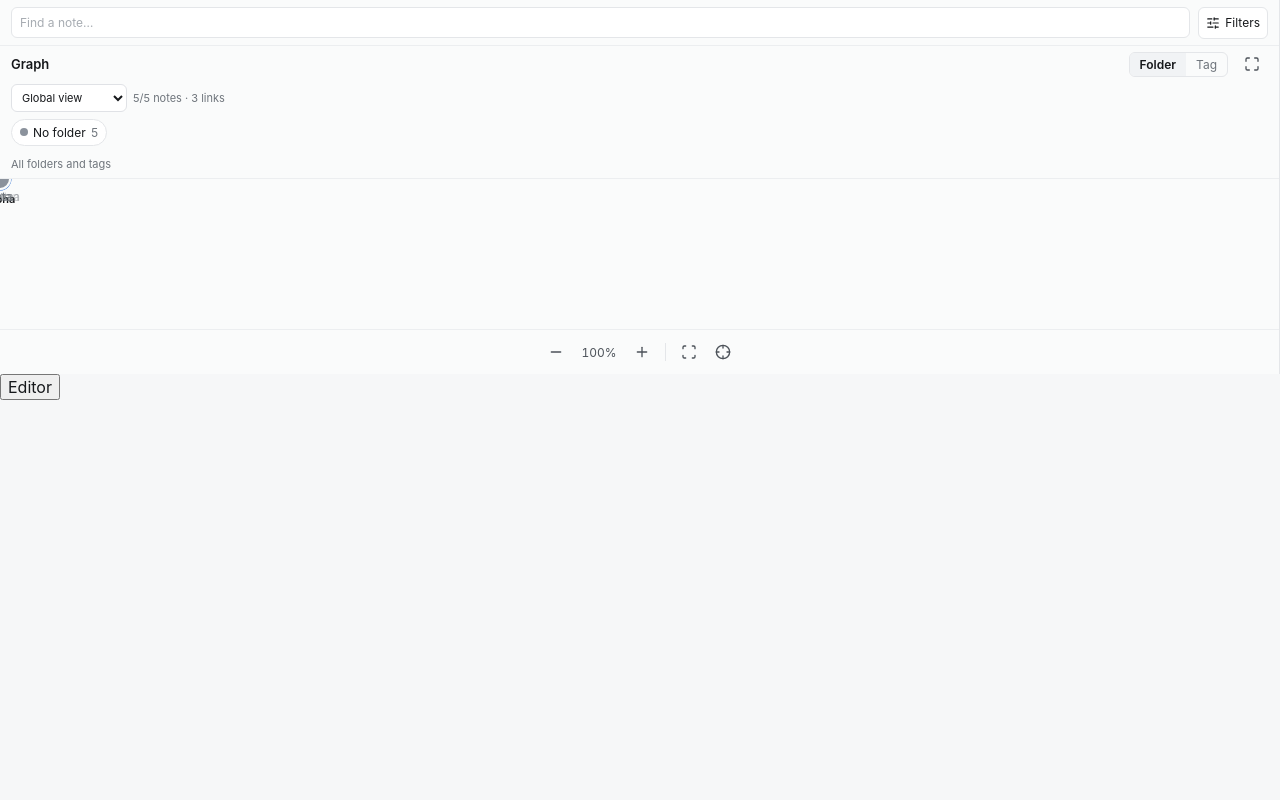
Test: Overlay graph filters › keeps camera and simulation positions when toggling filters and opening panels
Later steps or results of the test are not shown.
Step 1. Click the button named "Zoom in" → [642, 352], box [626, 336, 658, 368]
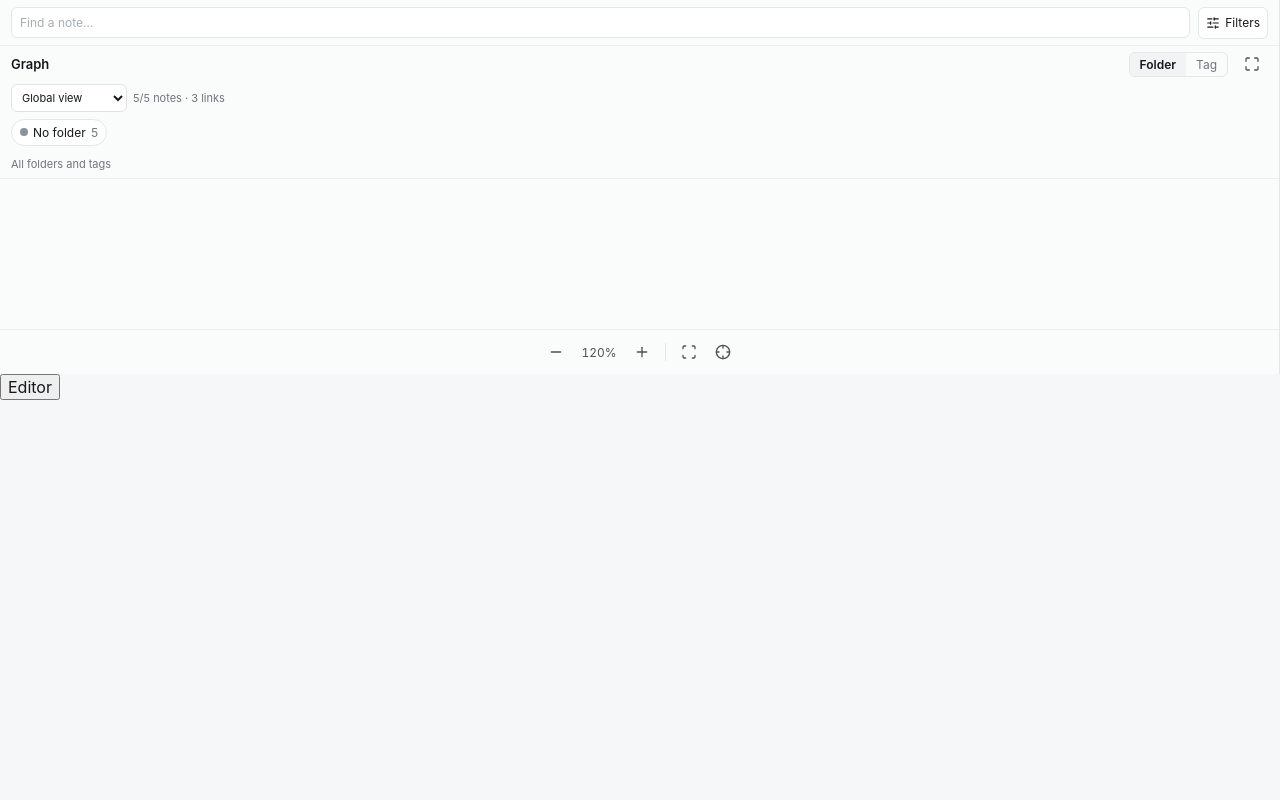
Step 2. Click the button "Filters" → [1233, 22], box [1198, 6, 1268, 38]
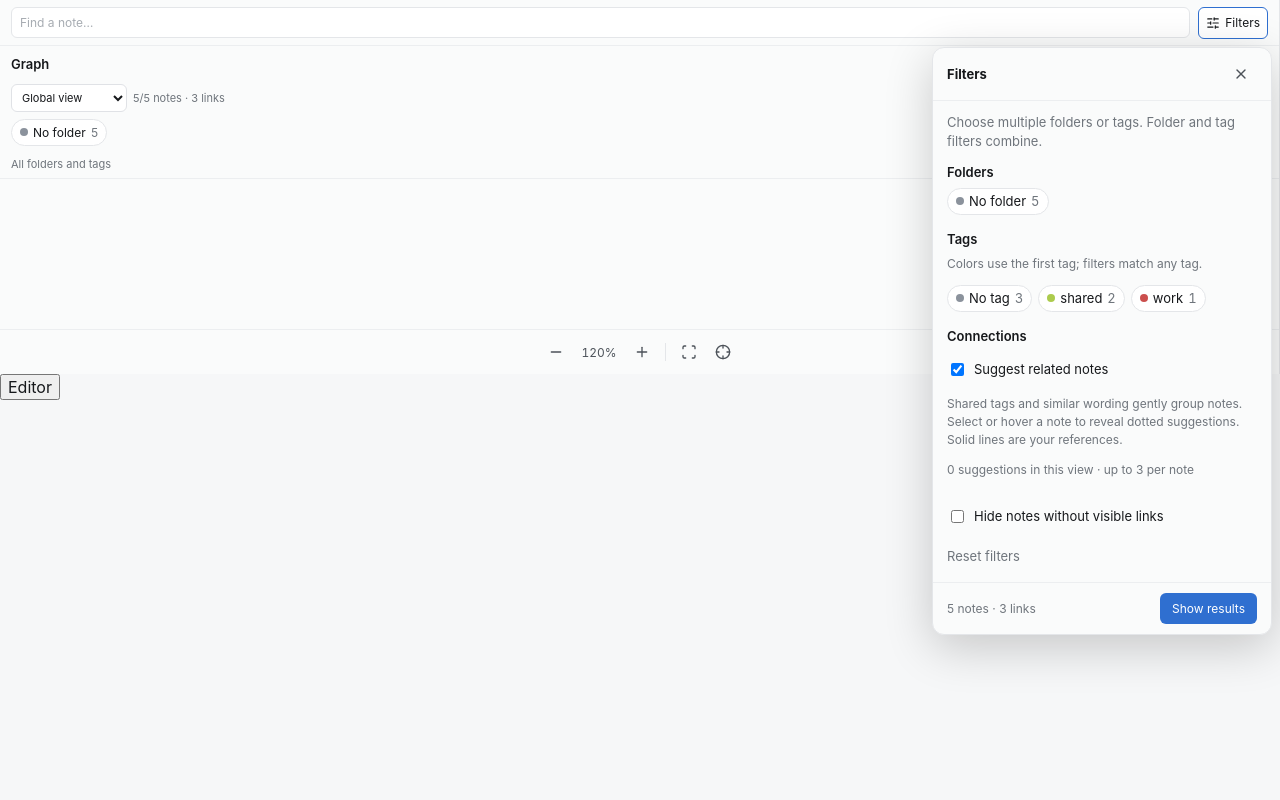
Check: the dialog is shown, box [932, 46, 1272, 634]
